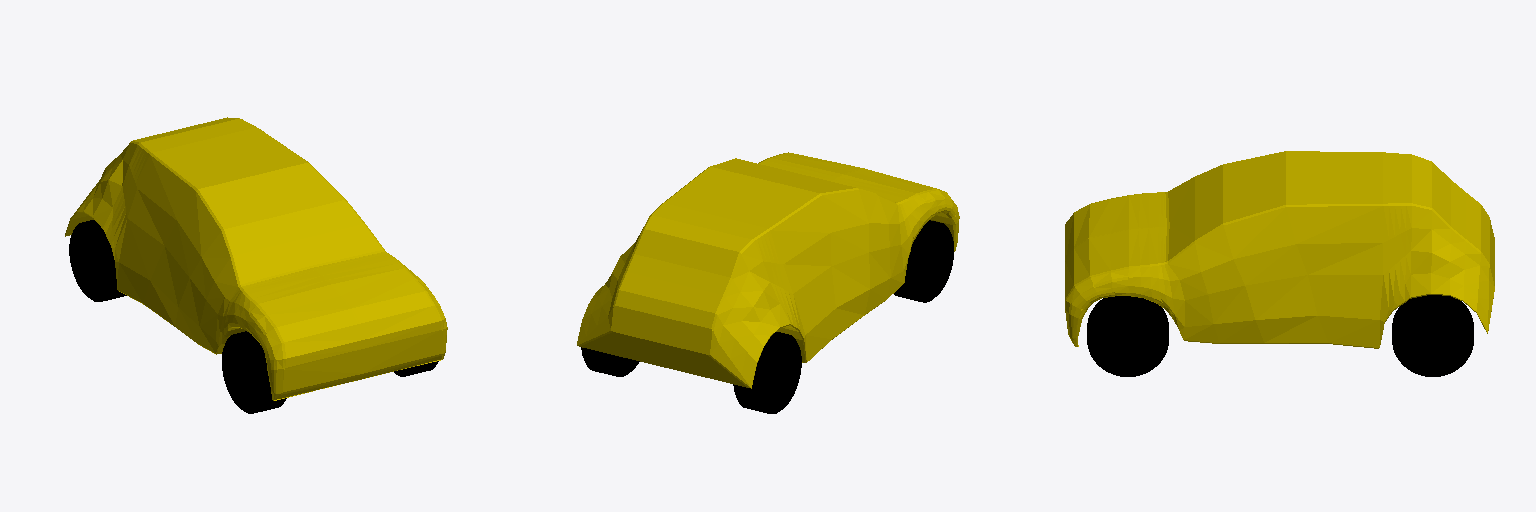
The model's file is car.obj.
3 renders of one model, left to right at view 1: azimuth 30°, elevation 25°; view 2: azimuth 150°, elevation 25°; view 3: azimuth 270°, elevation 25°, orthographic.
Visible parts, largest first — view 1: Body, FrontTiresR, BackTires; view 2: Body, BackTires, FrontTiresR; view 3: Body, BackTires, FrontTiresL.
Boxes of the visible parts, box(x1,y1,x2,y2) form: Body: box(65, 117, 447, 400); FrontTiresR: box(222, 331, 286, 413); BackTires: box(69, 220, 126, 301); Body: box(577, 152, 959, 388); BackTires: box(581, 332, 801, 413); FrontTiresR: box(894, 220, 953, 302); Body: box(1065, 151, 1494, 348); BackTires: box(1392, 295, 1473, 376); FrontTiresL: box(1087, 296, 1168, 376).
Bounding box in the file's own units: 2.75 × 2.23 × 5.58.